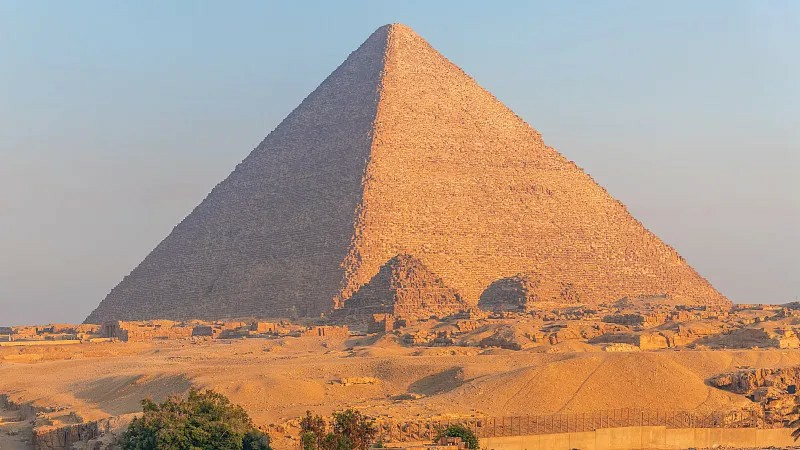Pyramid: (80, 22, 737, 319), (319, 255, 488, 330)
